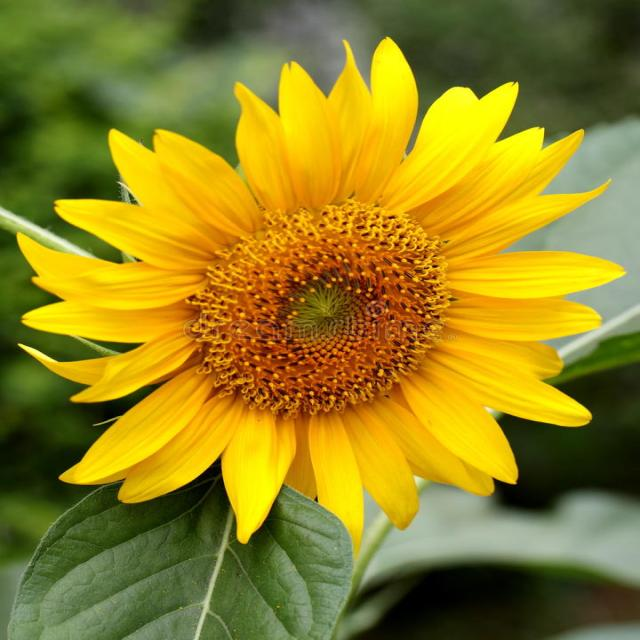sunflower: (31, 15, 629, 572)
